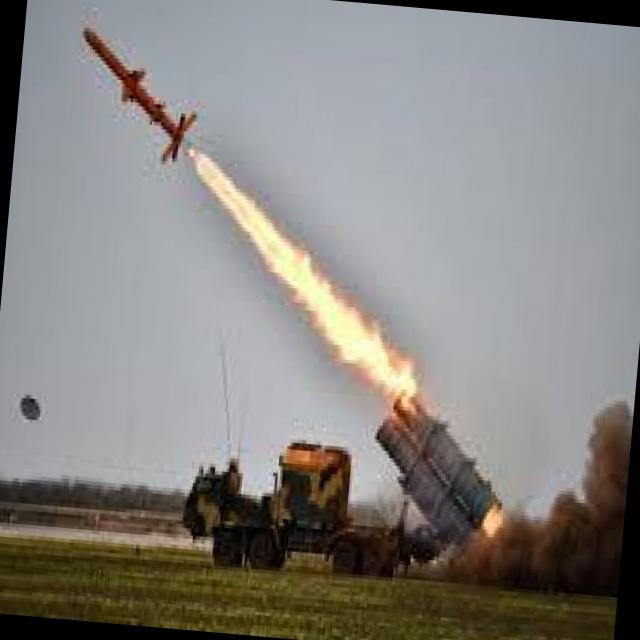rocket: (57, 17, 374, 353)
